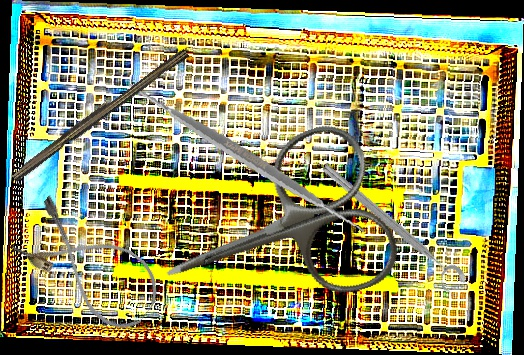Cannula: (8, 191, 171, 340)
Fixation Ring: (312, 159, 470, 299)
Iris Scissors: (136, 115, 408, 351)
Scalpel Handle: (8, 43, 190, 185)
Spatula Surgical: (126, 41, 367, 276)
